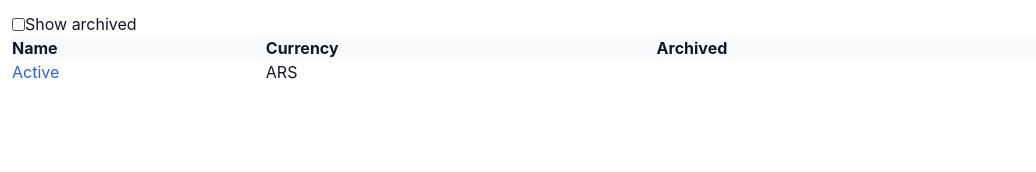
Scenario: AccountsListTable — sort + archived toggle + last activity › toggling "Show archived" reveals archived accounts
Expected: the number of rows is 2, [12,36,1035,60]; [12,60,1035,84]
Expected: the link "Active" is shown, [12,62,59,82]
# Toggle the "Show archived" checkbox.
Click the checkbox labelled "Show archived". click: click(18, 24)
box: [12,18,25,30]
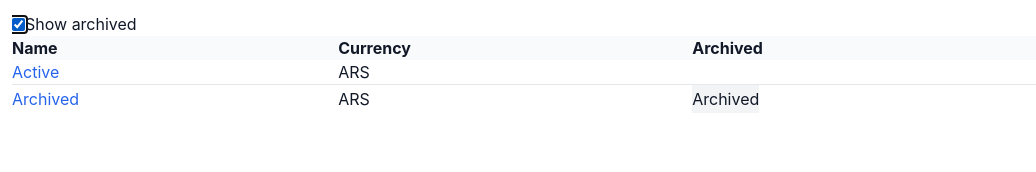
Expected: the number of rows is 3, [12,36,1035,60]; [12,60,1035,84]; [12,84,1035,113]
Result: the link "Archived" is shown at [12,89,79,109]
Result: the text "Archived" is shown at [692,85,759,113]
